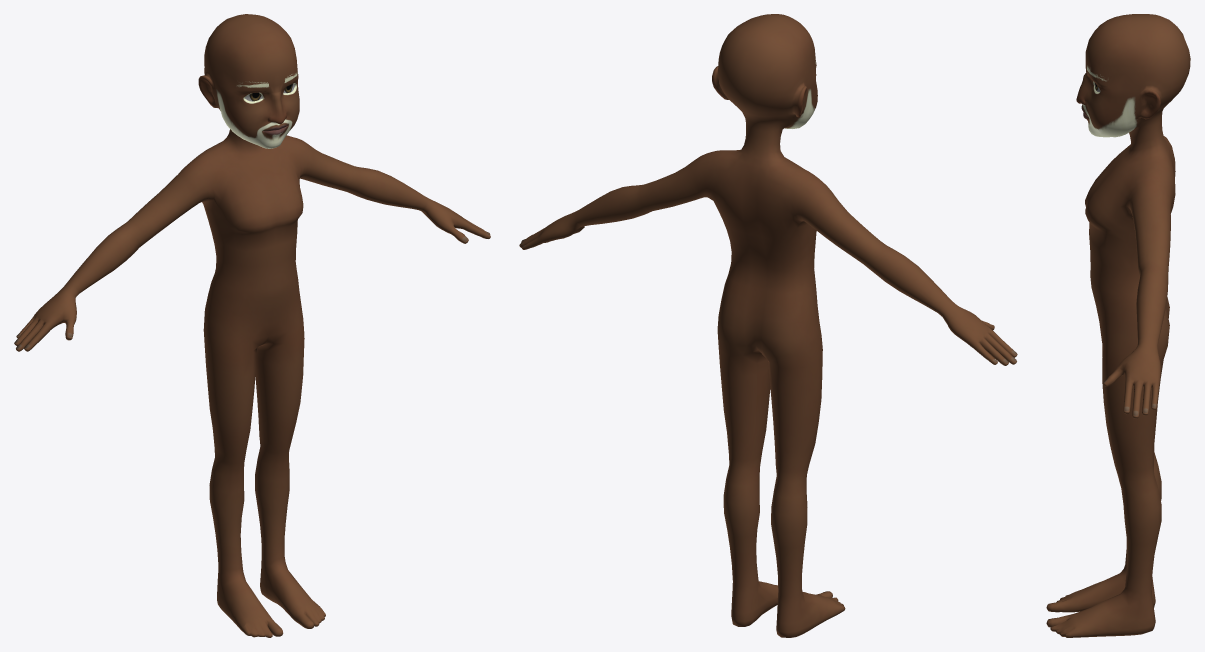
The model's file is frame_0076.glb.
3 renders of one model, left to right at view 1: azimuth 30°, elevation 25°; view 2: azimuth 150°, elevation 25°; view 3: azimuth 270°, elevation 25°, orthographic. The views are drawn at different scales.
Parts seen in each view (by area): view 1: frame_0076_head_geo; view 2: frame_0076_head_geo; view 3: frame_0076_head_geo.
Part boxes in pixels (x1=…): frame_0076_head_geo: x1=14, y1=14, x2=490, y2=637; frame_0076_head_geo: x1=519, y1=14, x2=1017, y2=637; frame_0076_head_geo: x1=1046, y1=14, x2=1190, y2=637.
Size of the model in its own units: 1.28 by 1.5 by 0.3253.
Materials: 3 (3 with a texture image).
